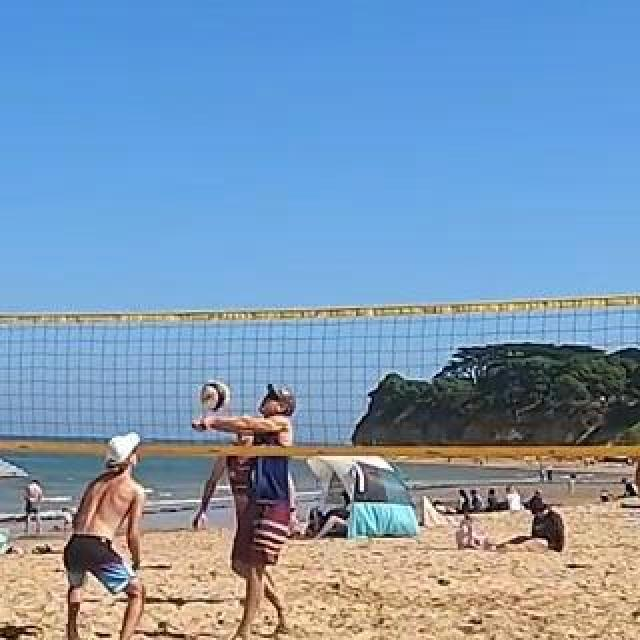volleyball: (201, 383, 231, 411)
